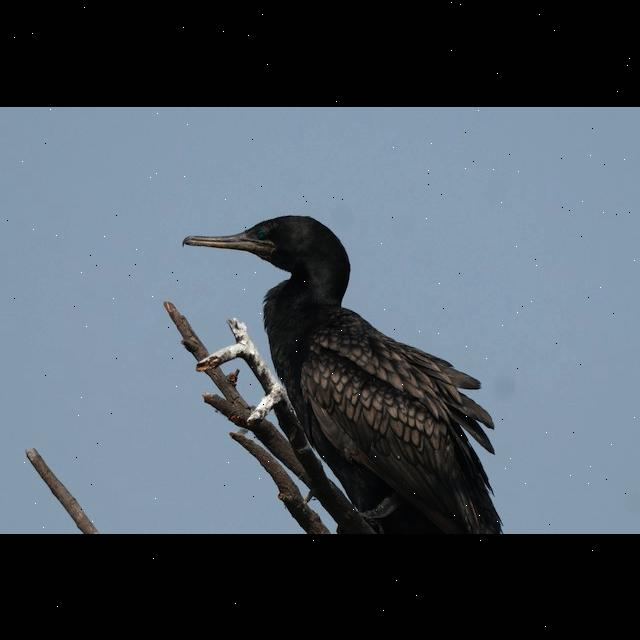cormorant: (180, 211, 512, 534)
